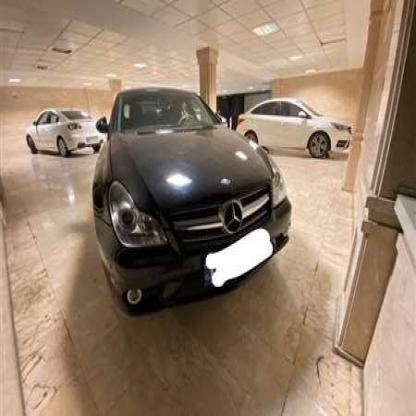Car: (88, 78, 296, 313), (235, 95, 365, 156), (21, 103, 101, 162)
